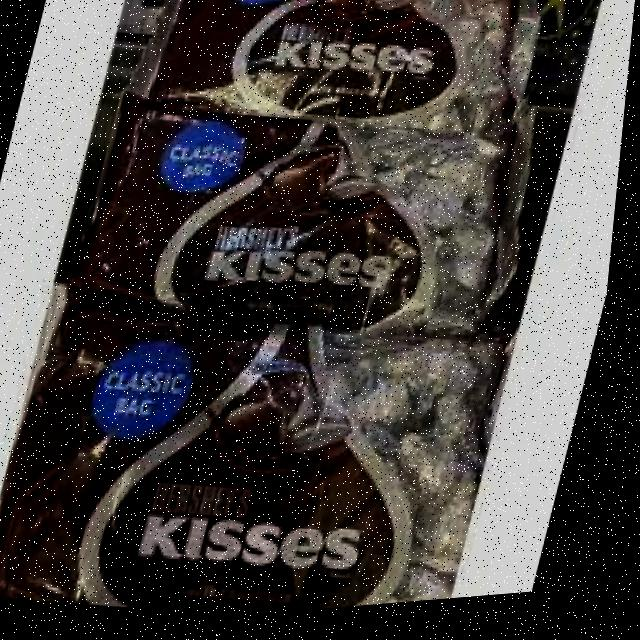kisses: (399, 422, 488, 515), (401, 175, 484, 252), (352, 367, 428, 447), (437, 229, 510, 309)
